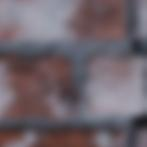brick: (0, 54, 79, 119), (0, 0, 124, 39), (0, 128, 124, 146), (132, 0, 146, 34), (132, 127, 146, 146)
broken_brick: (80, 51, 143, 117)
crack: (126, 2, 146, 144), (39, 76, 79, 107)
